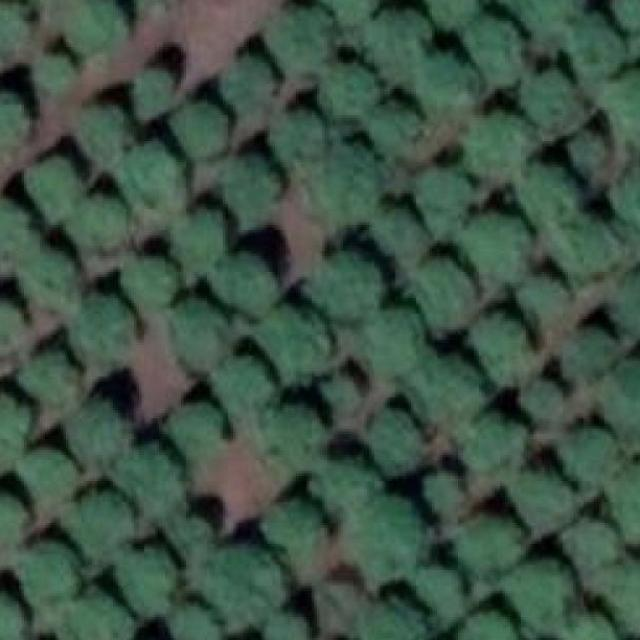Tree: (298, 139, 366, 226), (350, 504, 413, 586), (502, 560, 573, 632), (207, 551, 278, 622), (262, 306, 330, 374), (310, 251, 376, 319), (207, 251, 280, 312), (115, 139, 176, 212), (312, 460, 382, 523), (214, 356, 275, 428), (413, 358, 476, 426), (165, 301, 228, 369), (364, 308, 424, 379), (455, 512, 518, 578), (118, 455, 181, 521), (259, 408, 317, 479), (262, 5, 324, 71), (416, 58, 484, 118), (464, 123, 536, 179), (463, 212, 524, 278), (68, 492, 129, 558), (115, 549, 176, 615), (465, 312, 528, 374), (366, 11, 424, 78), (63, 406, 125, 468), (411, 162, 472, 225), (523, 82, 591, 137), (460, 413, 523, 471), (264, 500, 317, 568), (16, 541, 76, 601), (366, 97, 427, 155), (416, 256, 474, 317), (24, 256, 82, 317), (518, 169, 575, 230), (223, 54, 280, 115), (73, 300, 129, 361), (471, 19, 526, 81), (52, 596, 129, 640), (26, 157, 82, 217), (559, 223, 617, 280), (19, 448, 79, 503), (596, 361, 640, 434), (510, 474, 568, 529), (317, 54, 369, 115), (61, 0, 122, 52), (372, 408, 418, 476), (223, 157, 275, 217), (371, 207, 424, 265), (0, 199, 40, 275), (562, 523, 617, 578), (172, 105, 225, 162), (123, 256, 176, 312), (167, 406, 223, 458), (408, 565, 463, 617), (24, 356, 76, 411), (74, 108, 124, 165), (560, 327, 610, 383), (551, 429, 607, 479), (172, 209, 220, 267), (71, 199, 124, 251), (272, 99, 317, 160), (516, 0, 588, 37), (518, 277, 570, 327), (572, 26, 617, 82), (512, 372, 562, 422), (604, 73, 640, 141), (607, 463, 640, 531), (0, 91, 33, 157), (130, 71, 176, 118), (362, 603, 419, 640), (607, 175, 640, 238), (168, 516, 212, 562), (0, 396, 27, 468), (426, 0, 481, 35), (607, 573, 640, 630), (607, 274, 640, 330), (455, 612, 521, 640), (422, 468, 464, 511), (170, 603, 218, 640), (32, 56, 74, 98), (0, 305, 33, 357), (312, 0, 370, 29), (0, 2, 27, 63), (322, 377, 359, 413), (0, 593, 27, 640), (264, 612, 308, 640), (0, 494, 24, 544), (563, 617, 615, 640), (570, 141, 604, 171), (610, 0, 640, 31), (11, 0, 77, 8), (131, 0, 181, 10)
